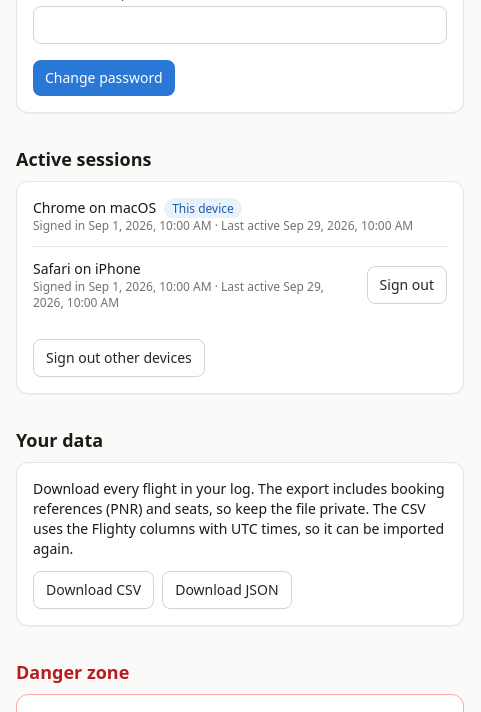
Scenario: Sessions section › asks before signing out other devices, and Cancel does nothing
The width and height of the screenshot is (481, 712).
(page scrolled)
Click the button "Sign out other devices" at (119, 358), box [33,339,205,377]
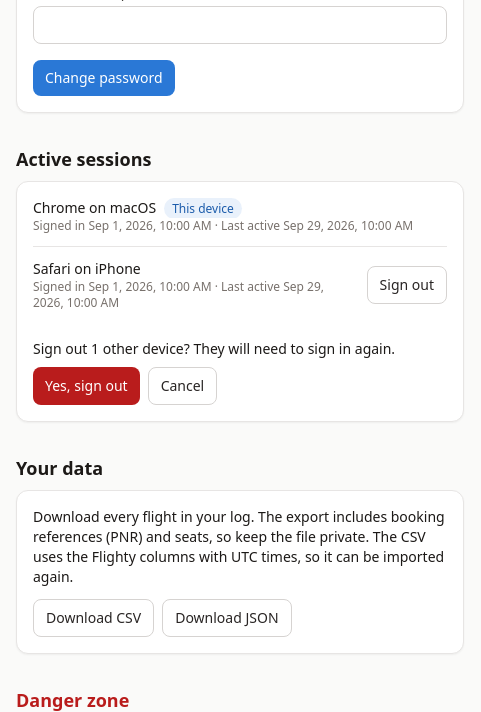
Now the text "Sign out 1 other device? They will need to sign in again." is shown, box [33,339,447,359]
Click the button "Cancel" at (182, 386), box [148,367,217,405]
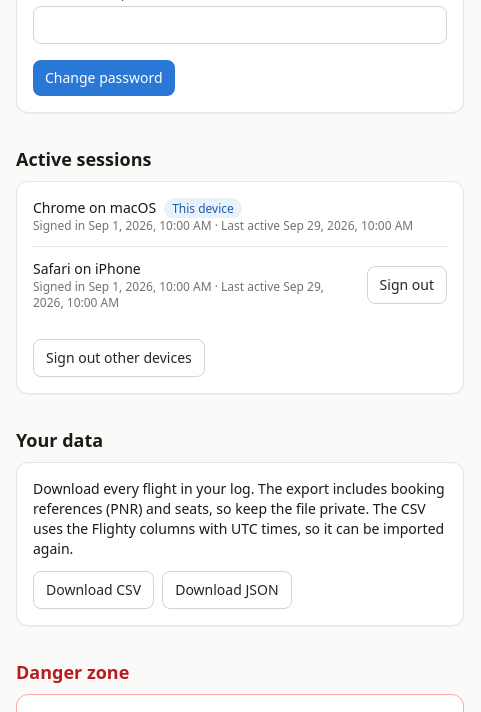
Now the button "Sign out other devices" is shown, box [33,339,205,377]
